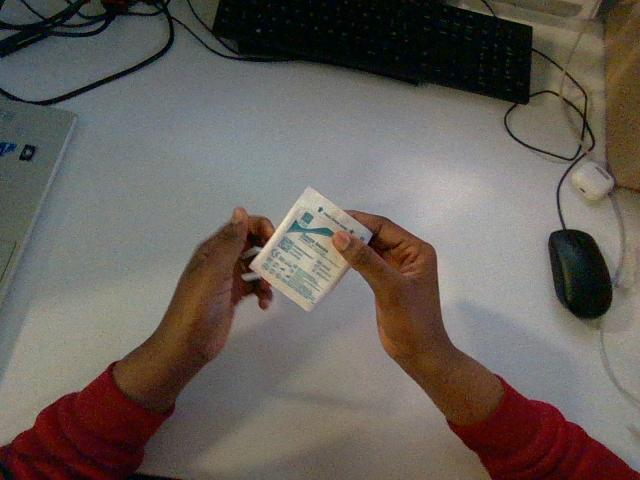gauze: (250, 187, 371, 310)
